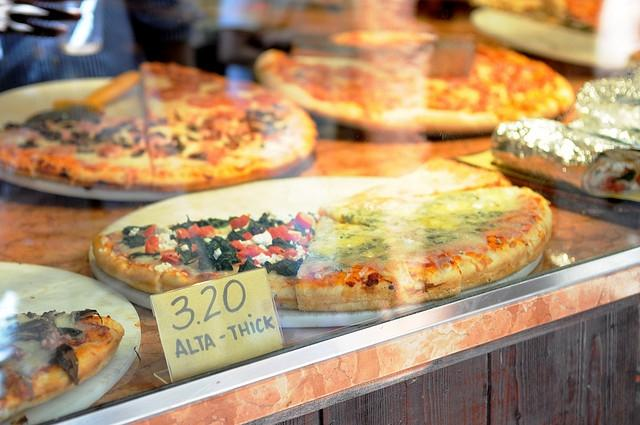tomato: (566, 0, 602, 19), (160, 248, 183, 266), (264, 227, 287, 241), (295, 212, 313, 229), (230, 214, 250, 228), (144, 239, 158, 255), (142, 224, 156, 237), (276, 224, 290, 237), (176, 228, 192, 239), (188, 223, 200, 237), (200, 226, 215, 237), (269, 246, 285, 256), (228, 240, 244, 250), (237, 248, 250, 258), (148, 237, 159, 246), (242, 232, 254, 240), (250, 250, 261, 258), (284, 252, 294, 260), (306, 232, 312, 242), (302, 246, 308, 252)
